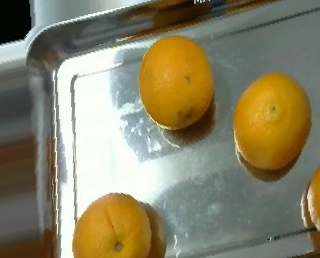Orange: (230, 71, 311, 171), (138, 34, 214, 130), (73, 190, 153, 258)
